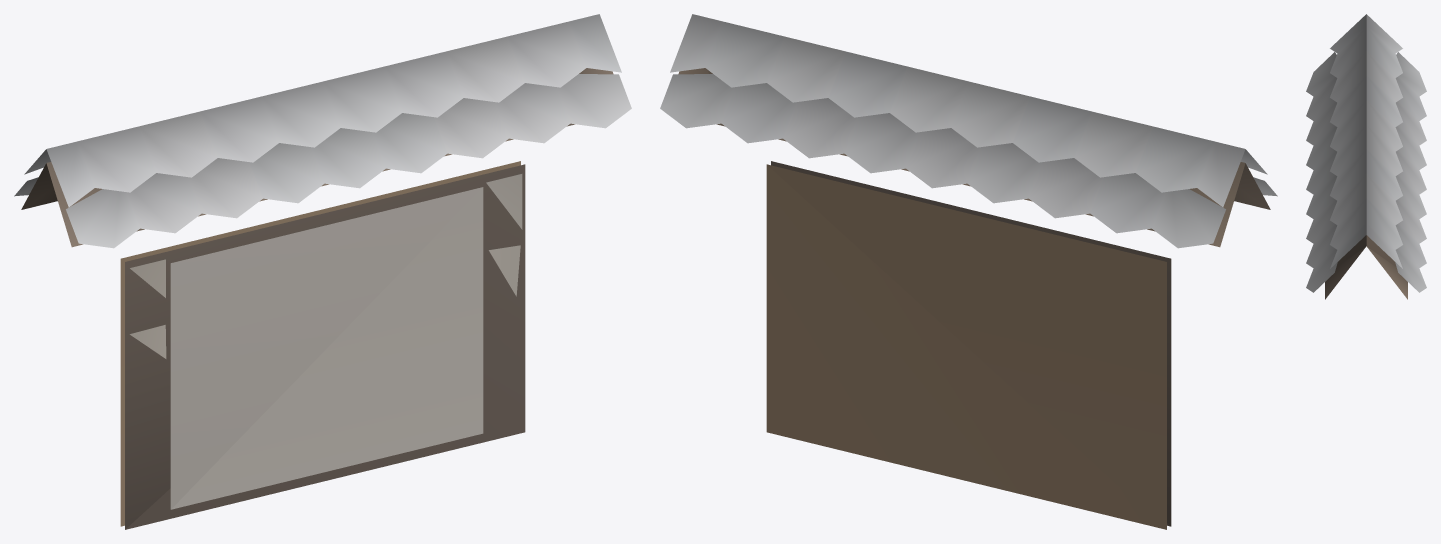
Rendered from board.lod.glb.
3 views of the same model, side by side, from view 1: azimuth 30°, elevation 25°; view 2: azimuth 150°, elevation 25°; view 3: azimuth 270°, elevation 25° (orthographic). The views are drawn at different scales.
Visible parts, largest first — view 1: board.001; view 2: board.001; view 3: board.001.
Boxes of the visible parts, x1,y1,x2,y2 form: board.001: [14, 14, 631, 529]; board.001: [660, 14, 1277, 529]; board.001: [1306, 14, 1426, 299].
Bounding box in the file's own units: 2.81 × 1.93 × 0.65.
